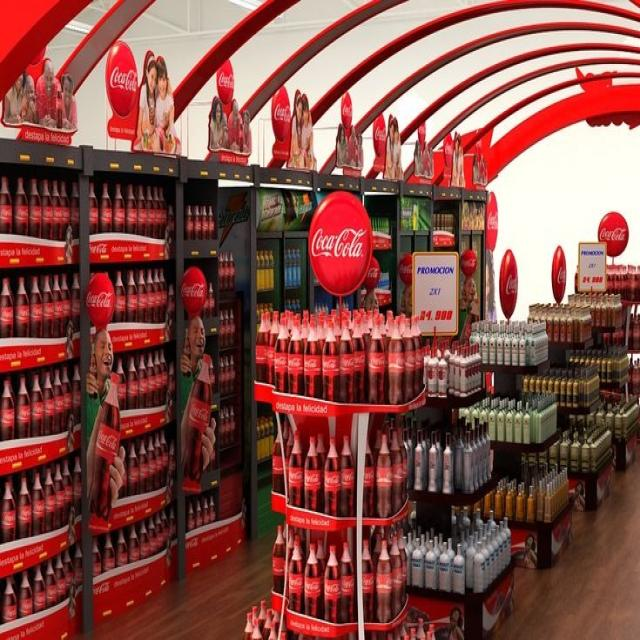coca cola: (310, 229, 371, 264), (104, 55, 144, 99)
